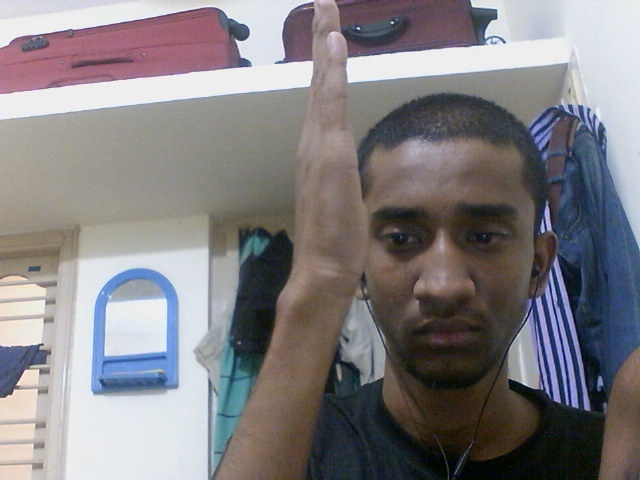hand: (289, 1, 372, 302)
